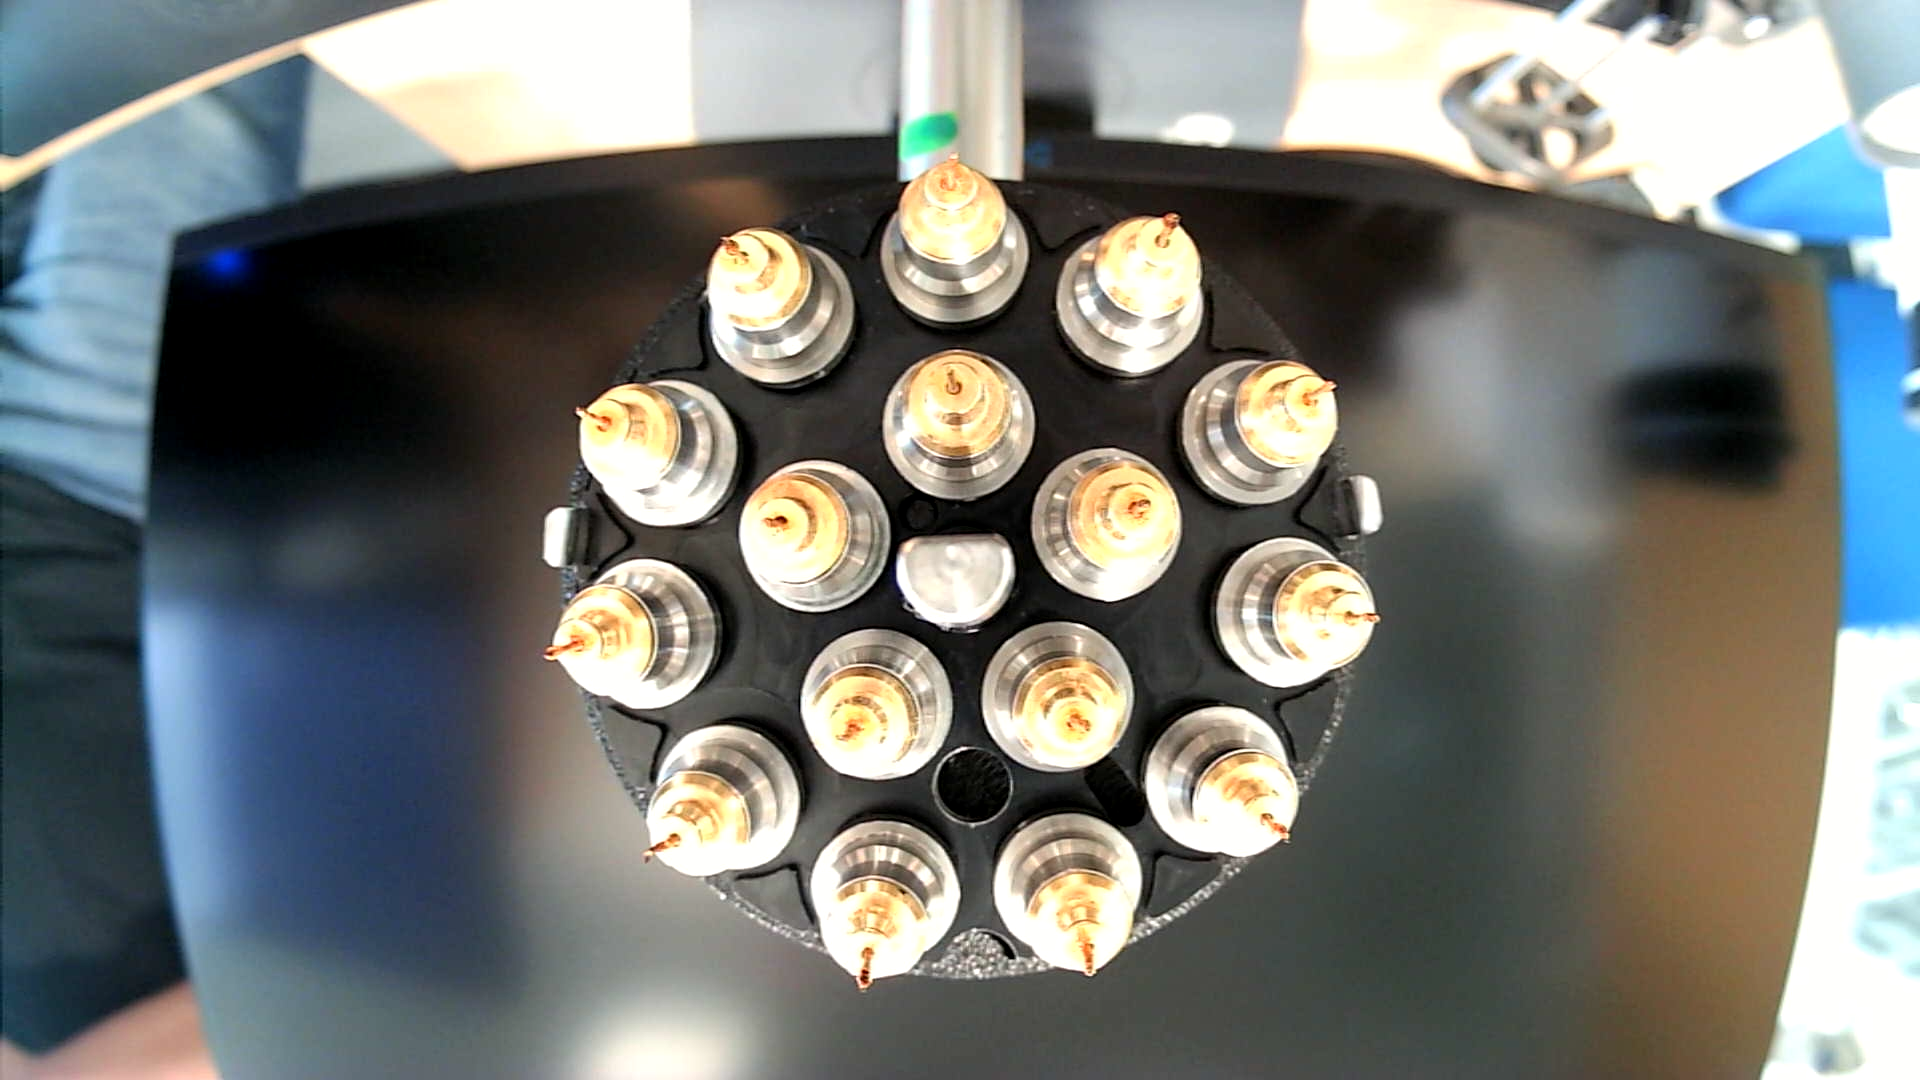hole: (931, 744, 1015, 832)
pin: (541, 549, 727, 703), (800, 811, 957, 993), (636, 716, 802, 878), (1208, 541, 1379, 698), (886, 152, 1039, 327), (574, 369, 742, 527), (704, 222, 860, 392), (984, 808, 1135, 982), (1062, 212, 1213, 384), (1138, 705, 1299, 865), (794, 625, 953, 782), (882, 345, 1042, 502), (1178, 353, 1340, 506), (978, 620, 1135, 777), (1030, 446, 1184, 605), (737, 452, 891, 612)
rod: (894, 527, 1021, 636)
